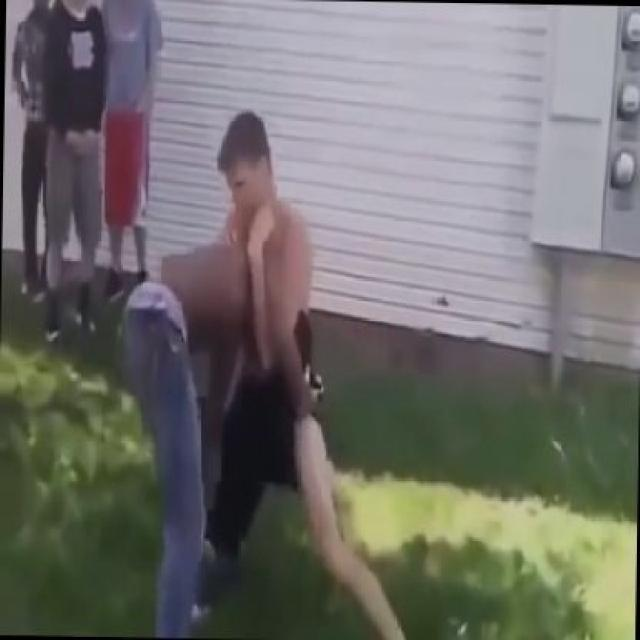fight: (100, 95, 420, 637)
